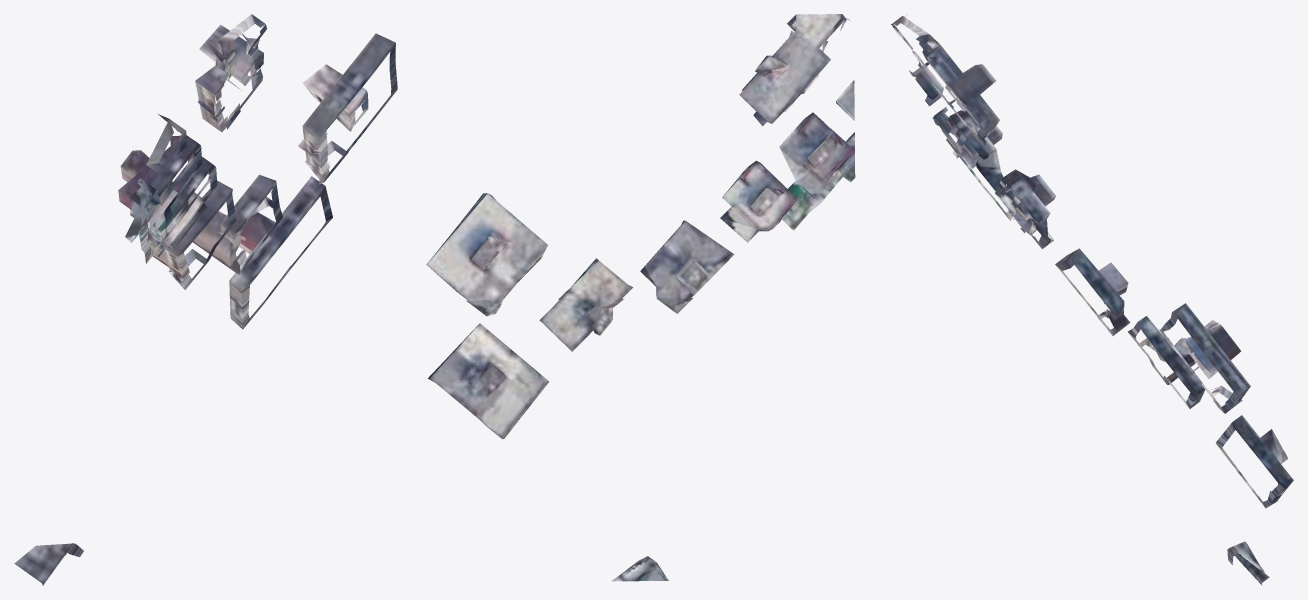
3 renders of one model, left to right at view 1: azimuth 30°, elevation 25°; view 2: azimuth 150°, elevation 25°; view 3: azimuth 270°, elevation 25°, orthographic. The views are drawn at different scales.
Bounding box in the file's own units: 95.19 × 140 × 96.49.
Materials: 1 (1 with a texture image).
